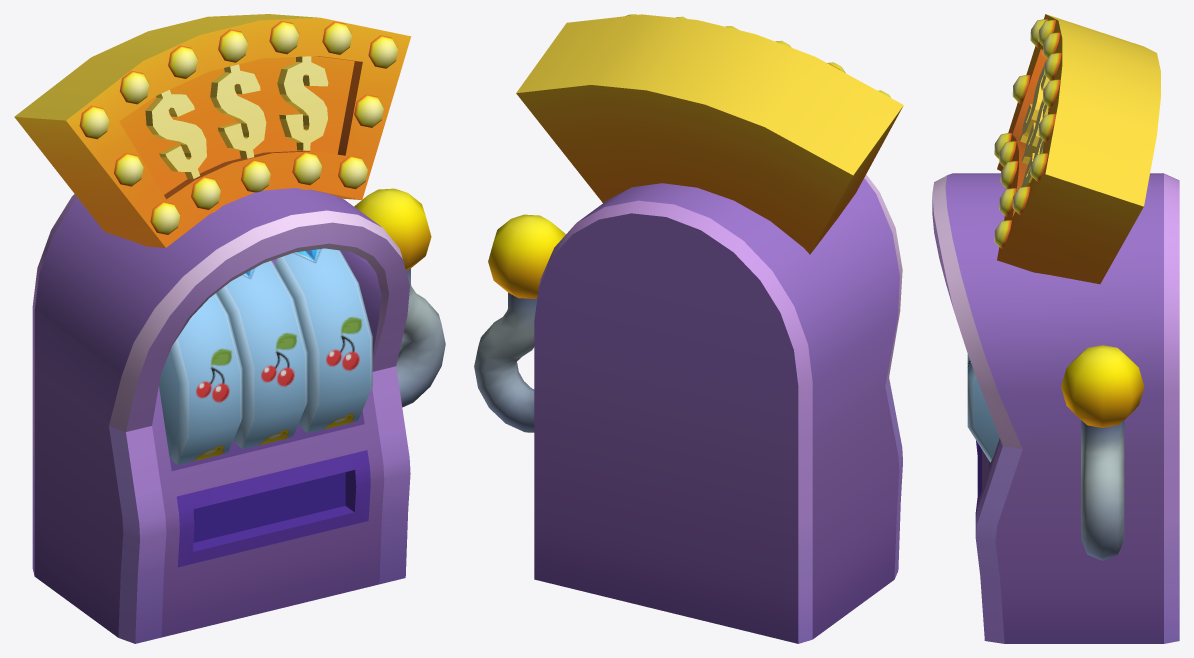
Rendered from Jackpot_03.fbx.
The picture shows the model from 3 angles, left to right: view 1: azimuth 30°, elevation 25°; view 2: azimuth 150°, elevation 25°; view 3: azimuth 270°, elevation 25°; orthographic projection. The views are drawn at different scales.
Parts seen in each view (by area): view 1: Jackpot_03, Jackpot_03_handle; view 2: Jackpot_03, Jackpot_03_handle; view 3: Jackpot_03, Jackpot_03_handle.
Part boxes in pixels (x1,y1,x2,y2): Jackpot_03: (14,14,411,643); Jackpot_03_handle: (354,188,445,407); Jackpot_03: (516,14,903,643); Jackpot_03_handle: (474,214,565,432); Jackpot_03: (932,14,1179,643); Jackpot_03_handle: (1061,345,1144,560).
Size of the model in its own units: 1.82 by 1.01 by 2.36.
